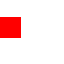square: (0, 17, 20, 37)
